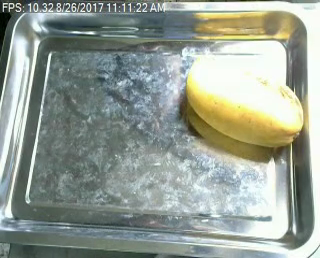Mango: (183, 54, 309, 153)
